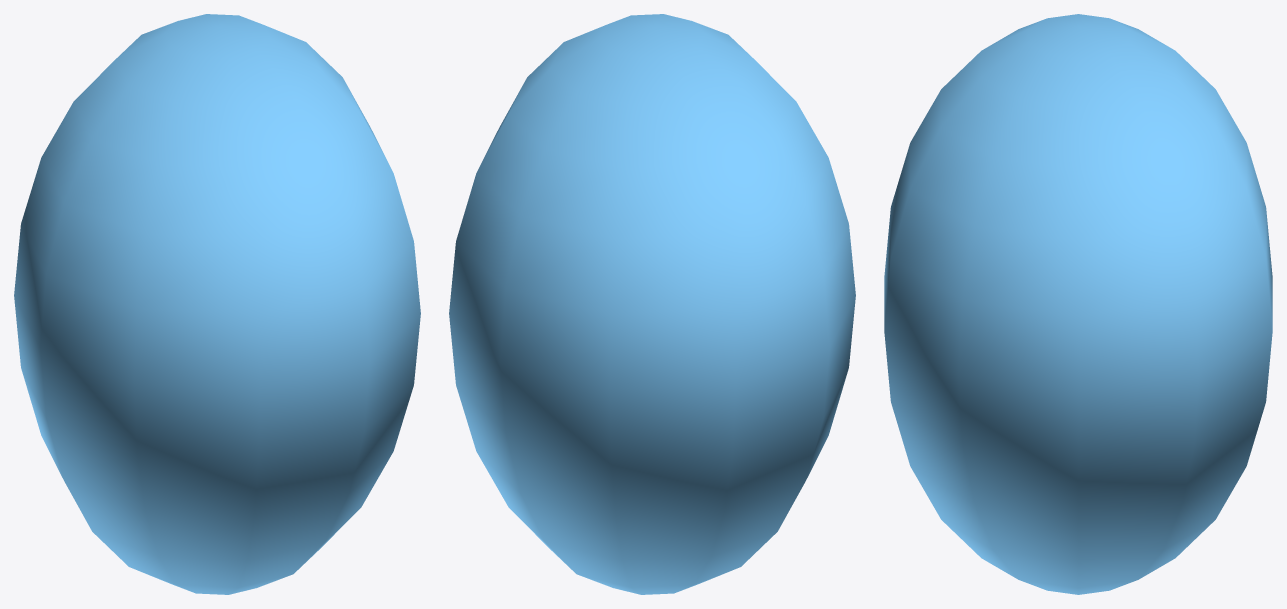
The model's file is gelifoca_stage2.obj.
3 views of the same model, side by side, from view 1: azimuth 30°, elevation 25°; view 2: azimuth 150°, elevation 25°; view 3: azimuth 270°, elevation 25° (orthographic).
Size of the model in its own units: 2 by 3 by 1.9.
